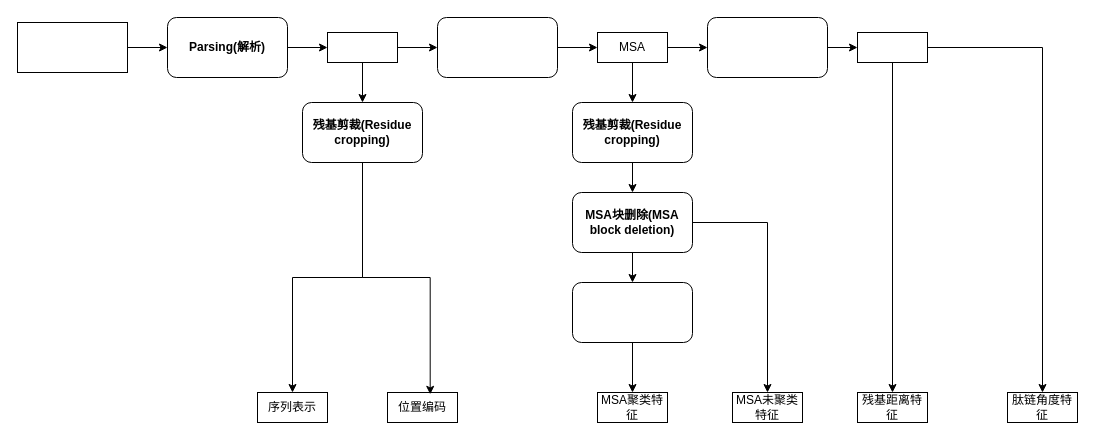
Some shapes in this 1095 by 440 pixel diagram are drawn without their labels. The shapes that lost their labels are listed below. From the top down, each one's centre as x and y in pixels, then its label:
pixel 72 47: mmCIF file
pixel 362 47: 序列
pixel 497 47: 基因搜索(Genetic search)
pixel 767 47: 模板搜索(Template search)
pixel 892 47: Templates
pixel 632 312: MSA聚类(MSA clustering)
